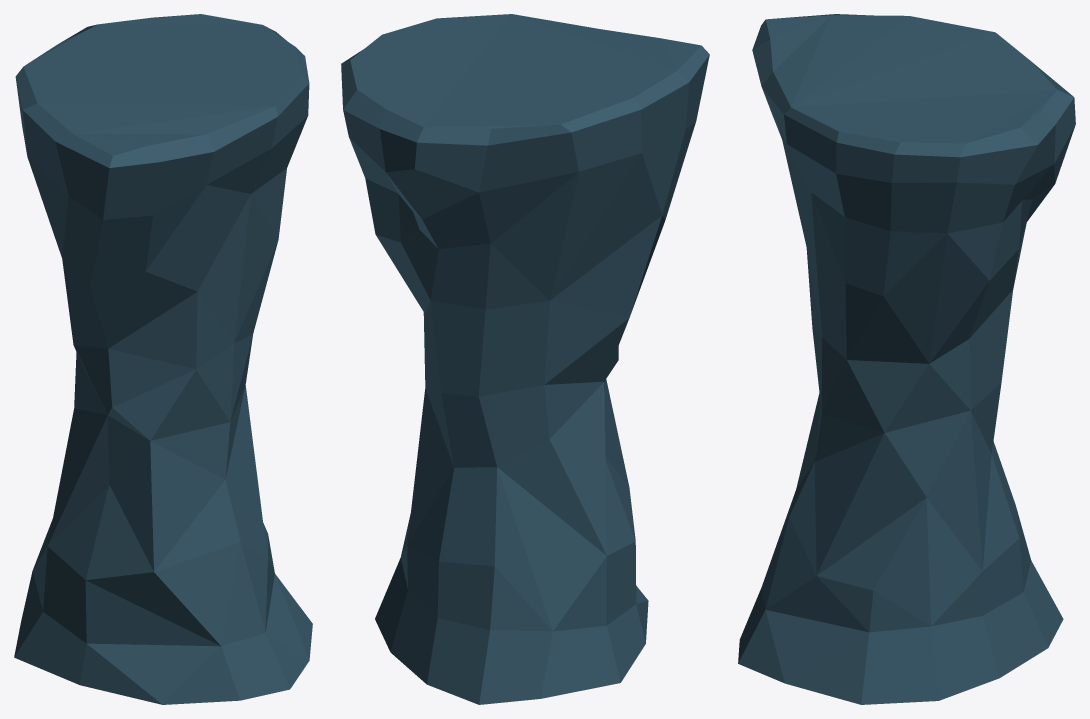
The model's file is Pillar-A14.fbx.
3 renders of one model, left to right at view 1: azimuth 30°, elevation 25°; view 2: azimuth 150°, elevation 25°; view 3: azimuth 270°, elevation 25°, orthographic.
Visible parts, largest first — view 1: Pillar-A14; view 2: Pillar-A14; view 3: Pillar-A14.
Boxes of the visible parts, left/top/right/bottom form: Pillar-A14: left=14, top=14, right=312, bottom=704; Pillar-A14: left=341, top=14, right=709, bottom=704; Pillar-A14: left=738, top=14, right=1075, bottom=704.
Bounding box in the file's own units: 208 × 214 × 397.
